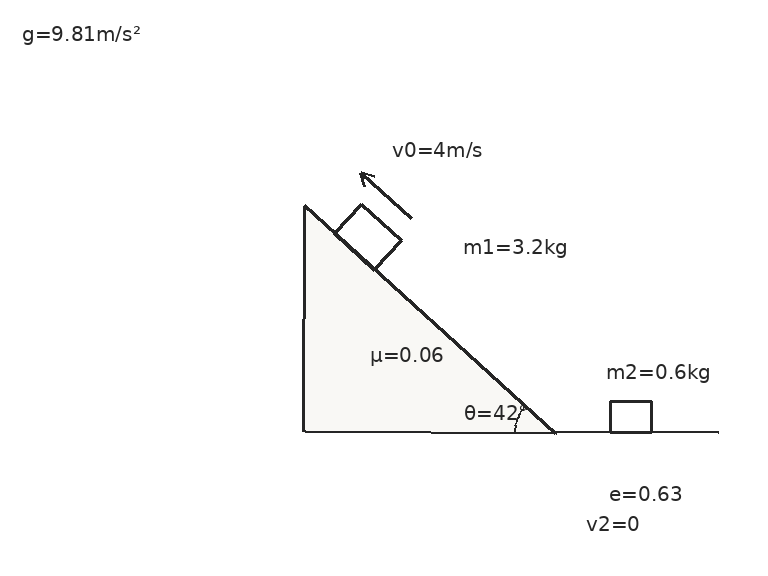block: (332, 202, 402, 271), (608, 399, 654, 434)
ramp: (302, 204, 557, 434)
